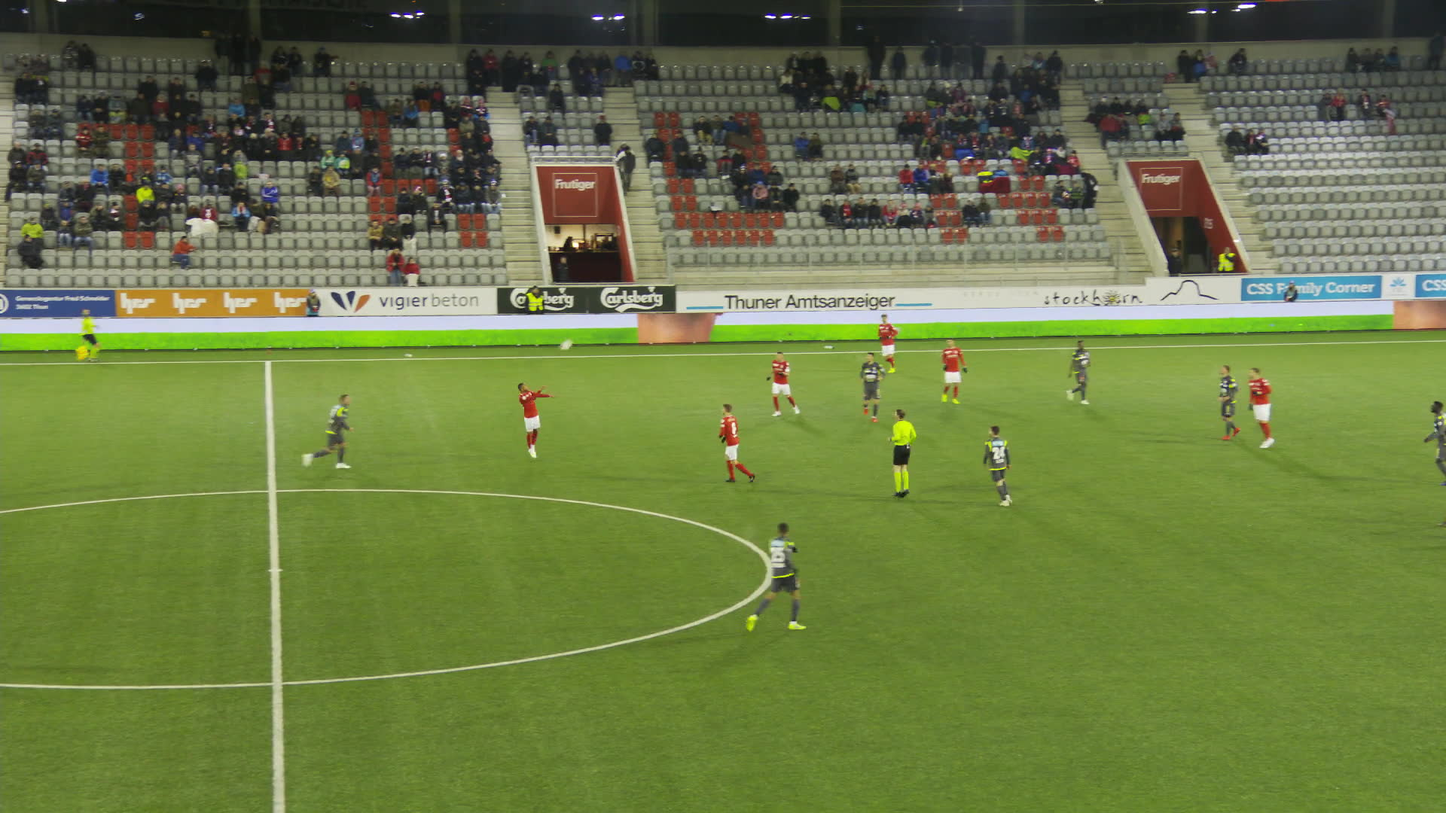ball: (561, 336, 575, 349)
player: (737, 516, 801, 638), (288, 389, 352, 479), (709, 402, 751, 486), (510, 381, 552, 461), (974, 424, 1012, 511), (1234, 367, 1271, 452), (758, 349, 796, 419), (1417, 398, 1445, 486), (928, 336, 962, 406), (1055, 336, 1088, 408), (848, 347, 878, 425), (1207, 364, 1237, 441), (871, 312, 896, 373), (1427, 470, 1445, 531)
referee: (874, 408, 920, 501), (59, 303, 99, 364)
